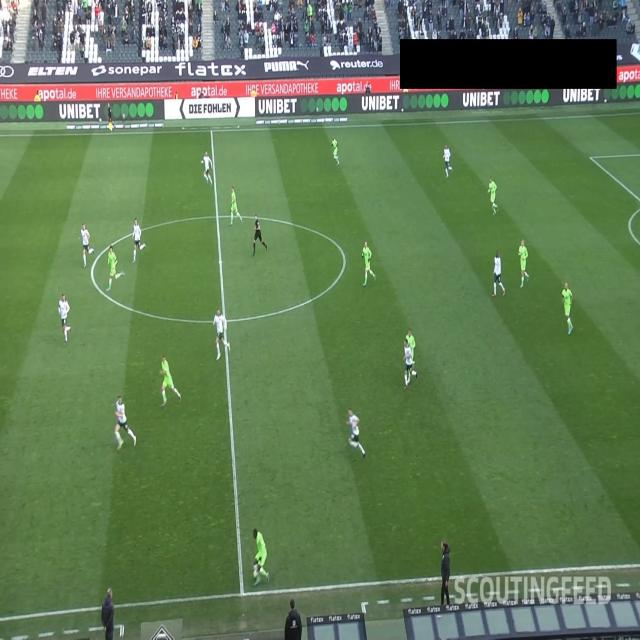ball: (253, 569, 259, 579)
